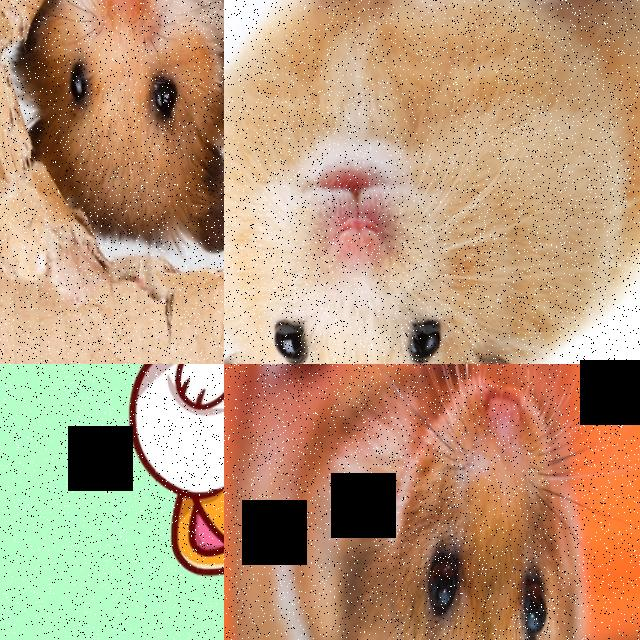hamster: (224, 0, 640, 364), (224, 364, 595, 640), (8, 0, 224, 253), (124, 364, 224, 583)
